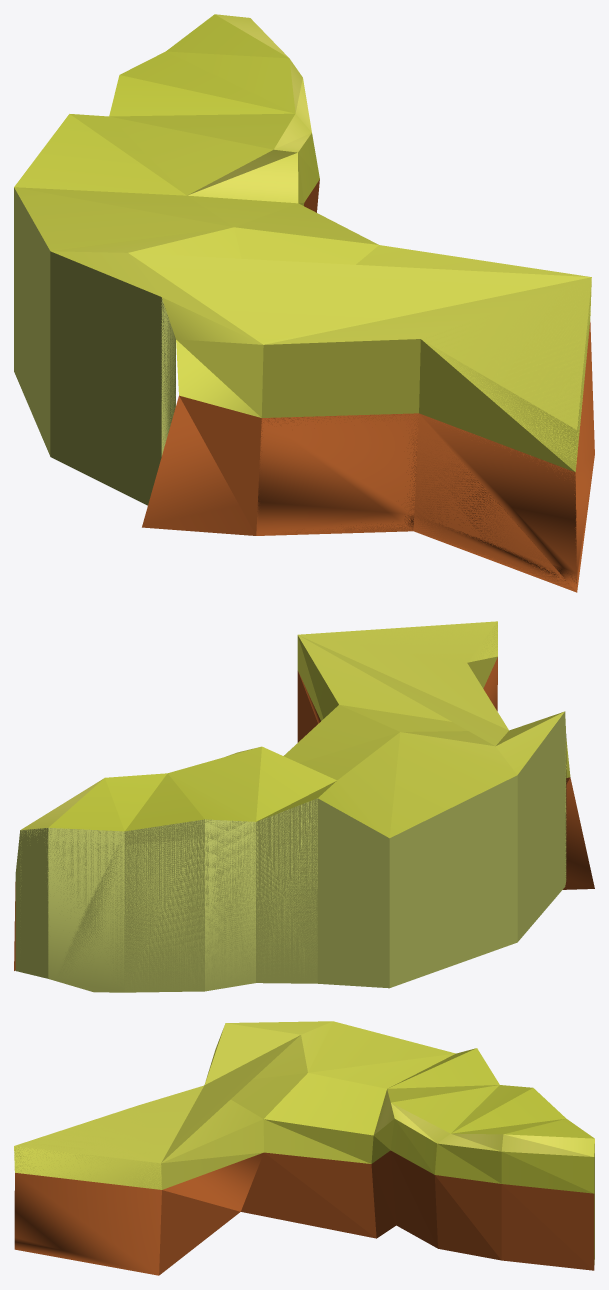
File: asia_Korea.glb
3 views of the same model, one above another, from view 1: azimuth 30°, elevation 25°; view 2: azimuth 150°, elevation 25°; view 3: azimuth 270°, elevation 25° (orthographic). The views are drawn at different scales.
Parts seen in each view (by area): view 1: asia_Korea; view 2: asia_Korea; view 3: asia_Korea.
Part boxes in pixels (x1,y1,x2,y2): asia_Korea: [14, 14, 594, 592]; asia_Korea: [14, 621, 594, 992]; asia_Korea: [14, 1021, 594, 1275].
Bounding box in the file's own units: 0.8952 × 0.5419 × 1.71.
Materials: 2 (1 with a texture image).
